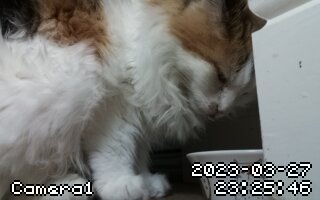clara: (3, 6, 257, 197)
